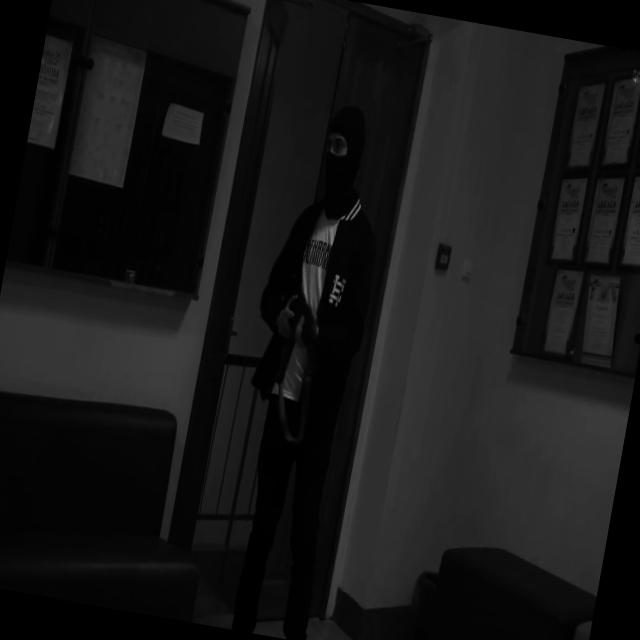gun: (268, 263, 338, 382)
person with a gun: (203, 95, 402, 640)
